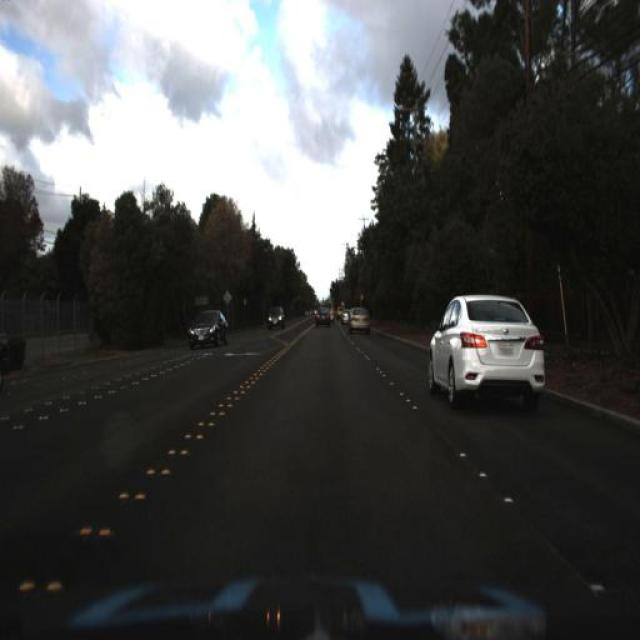car: (424, 290, 556, 416), (186, 310, 234, 346), (344, 304, 370, 338), (312, 308, 332, 332), (267, 305, 287, 327)
